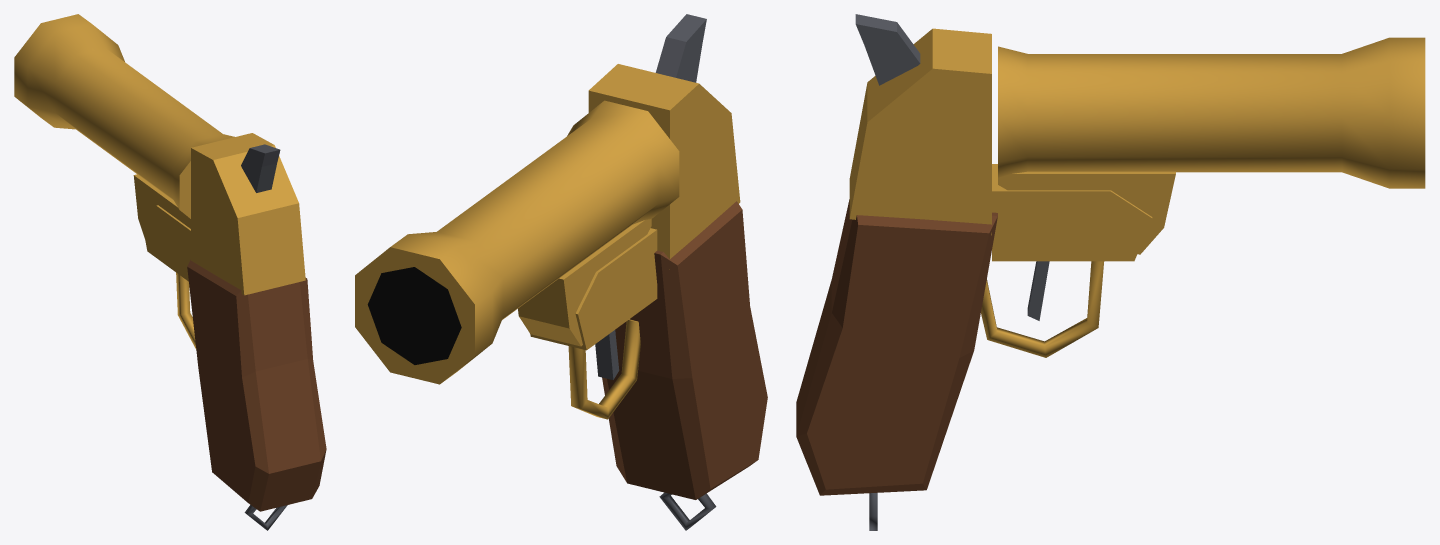
The model's file is flare_pistol.glb.
3 renders of one model, left to right at view 1: azimuth 30°, elevation 25°; view 2: azimuth 150°, elevation 25°; view 3: azimuth 270°, elevation 25°, orthographic. The views are drawn at different scales.
Visible parts, largest first — view 1: Body, Barrel; view 2: Body, Barrel; view 3: Body, Barrel.
Boxes of the visible parts, x1,y1,x2,y2 form: Body: (140,133,326,530); Barrel: (14,14,234,238); Body: (530,14,767,530); Barrel: (355,100,679,384); Body: (796,14,1152,530); Barrel: (998,37,1425,254).
Bounding box in the file's own units: 0.0471 × 0.1904 × 0.2122.
